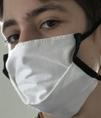with_mask: (2, 1, 101, 118)
